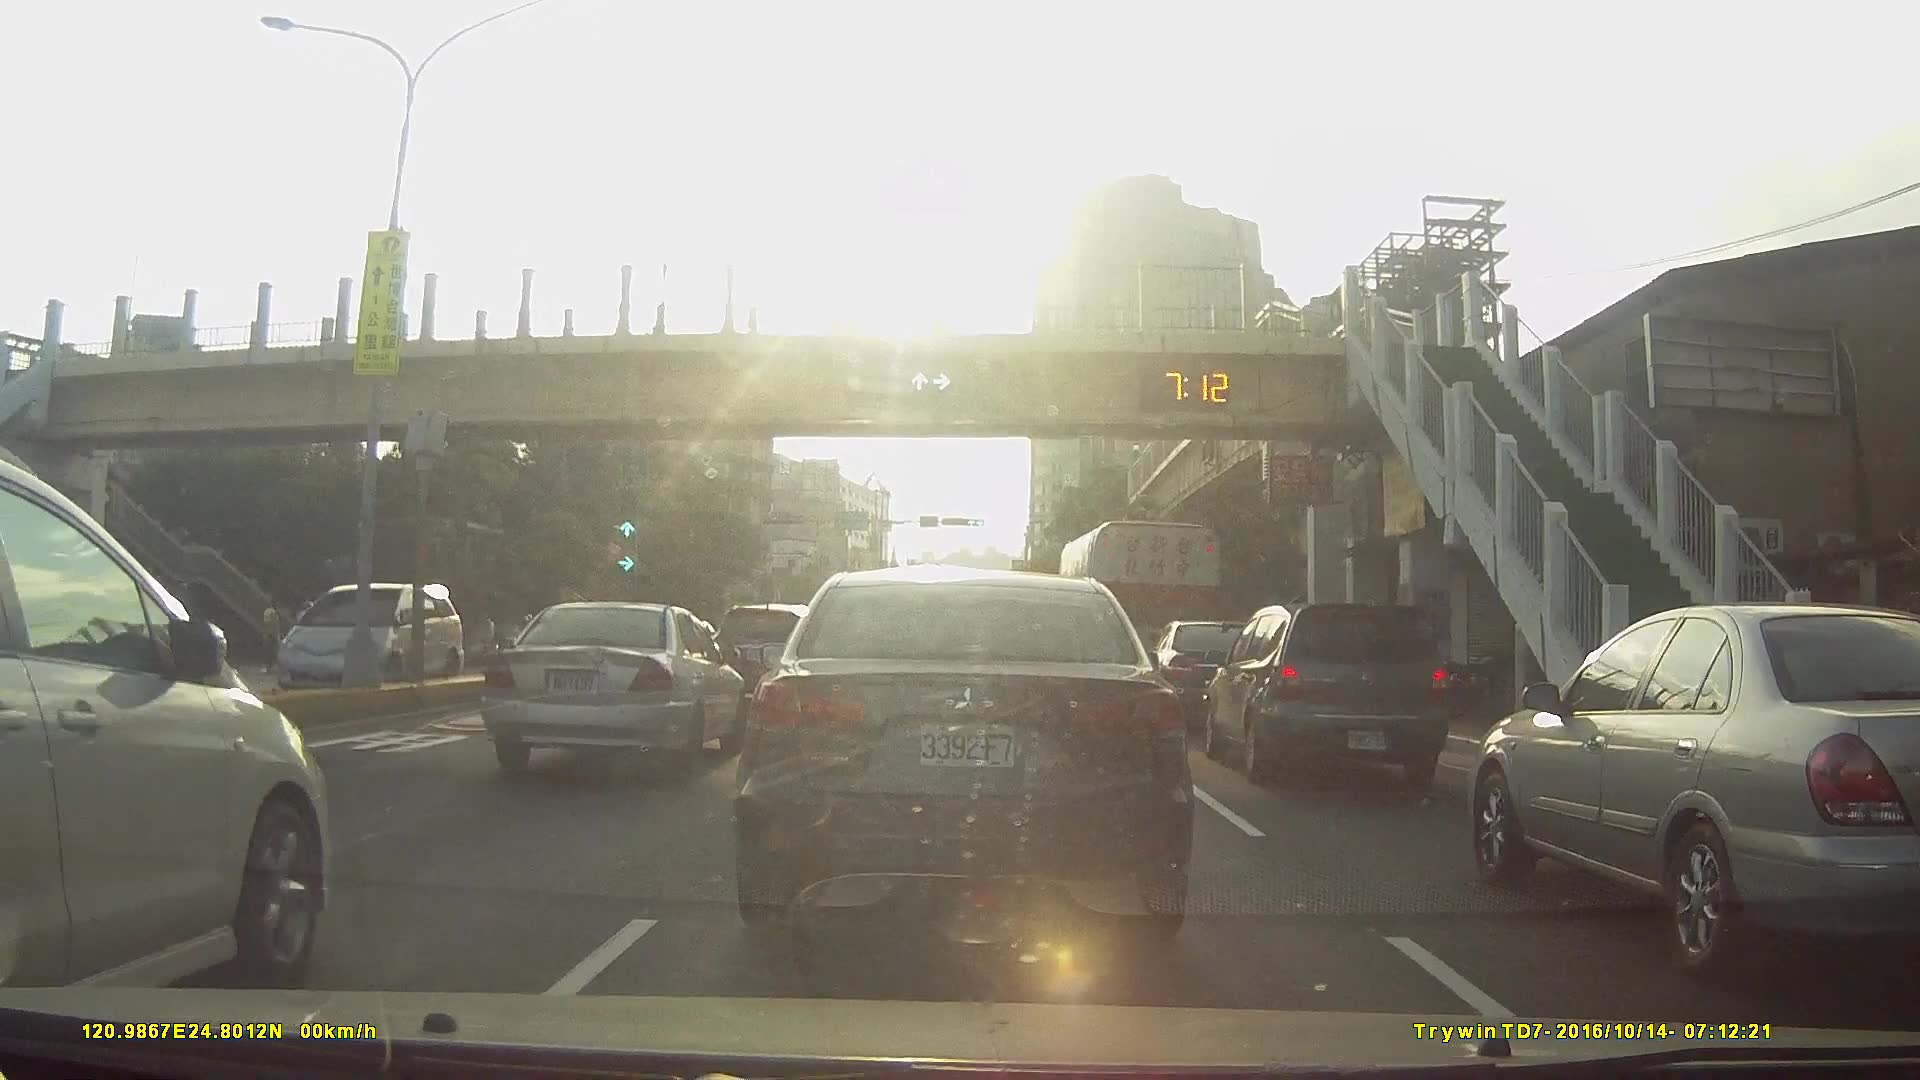vehicle: (0, 436, 347, 1022), (1476, 601, 1920, 986), (738, 562, 1193, 938), (1205, 601, 1452, 789), (487, 600, 753, 769), (265, 578, 472, 699), (1149, 618, 1280, 727), (709, 597, 819, 707)
